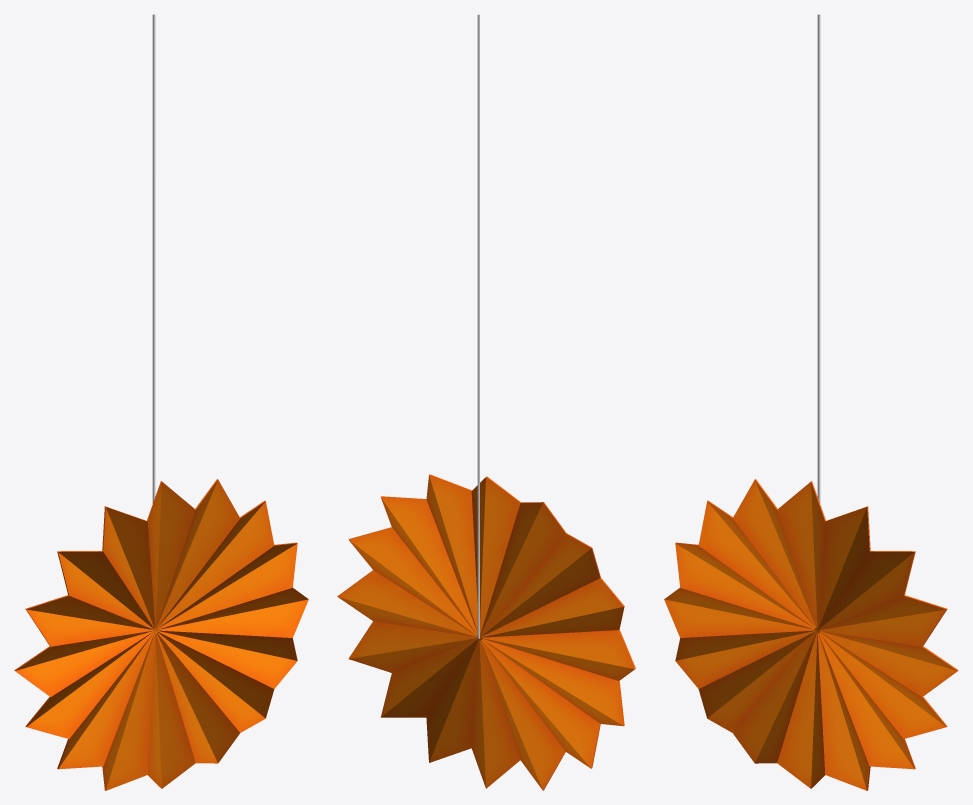
File: PartyHangings01B_7.FBX
3 views of the same model, side by side, from view 1: azimuth 30°, elevation 25°; view 2: azimuth 150°, elevation 25°; view 3: azimuth 330°, elevation 25° (orthographic).
Parts seen in each view (by area): view 1: PartyHangings01B_7; view 2: PartyHangings01B_7; view 3: PartyHangings01B_7.
Part boxes in pixels (x1,y1,x2,y2): PartyHangings01B_7: (14, 14, 308, 790); PartyHangings01B_7: (337, 14, 635, 790); PartyHangings01B_7: (664, 14, 958, 790).
Size of what is drawn, in the model's own units: 0.2837 by 0.7088 by 0.031.
